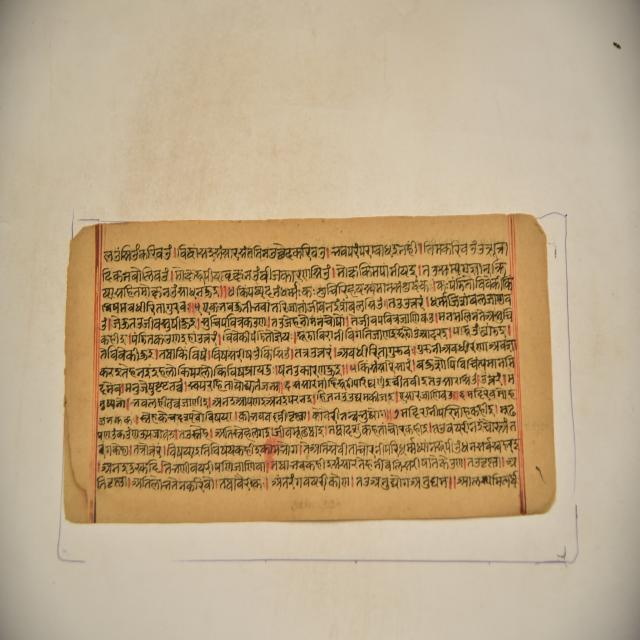text_paragraph: (64, 218, 551, 521)
